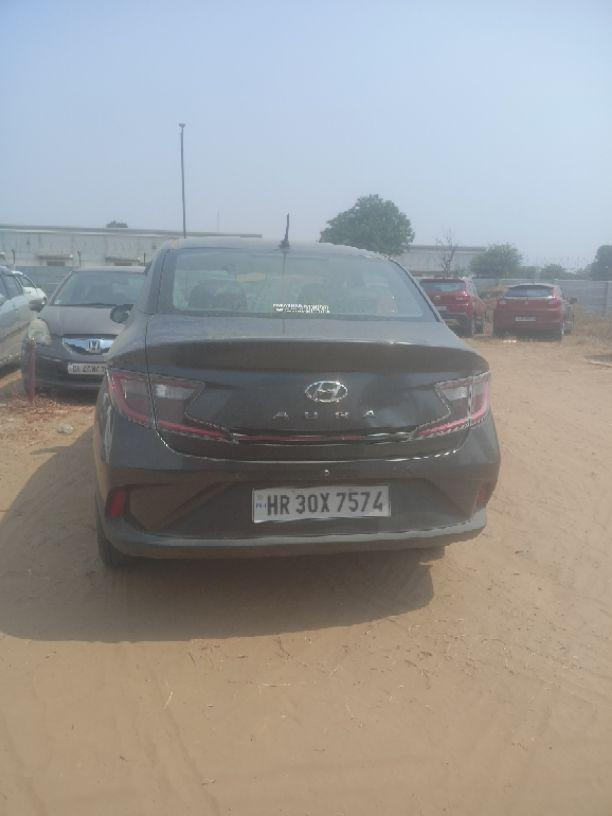license_plate: (250, 483, 391, 524)
